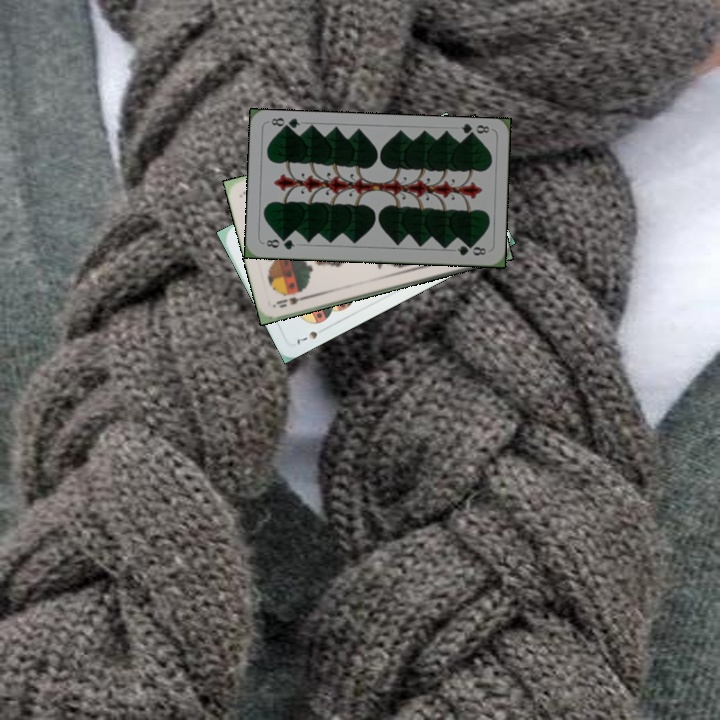G8: (457, 120, 492, 140), (262, 234, 297, 252)
S7: (292, 327, 320, 347)
SO: (271, 291, 311, 310)
